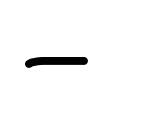minus: (25, 56, 88, 68)
